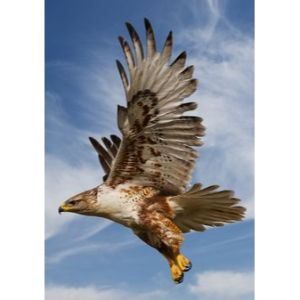hawk: (57, 15, 249, 290)
